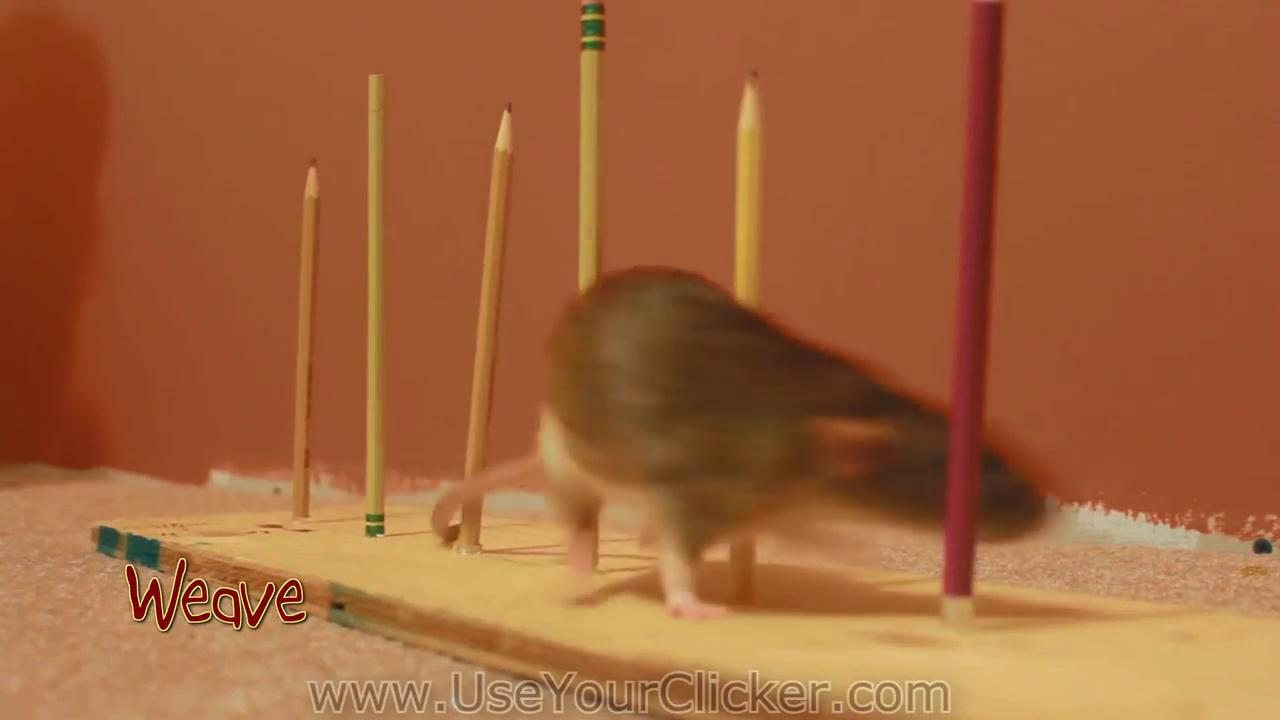rat: (430, 263, 1052, 625)
